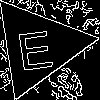E: (13, 21, 56, 71)
